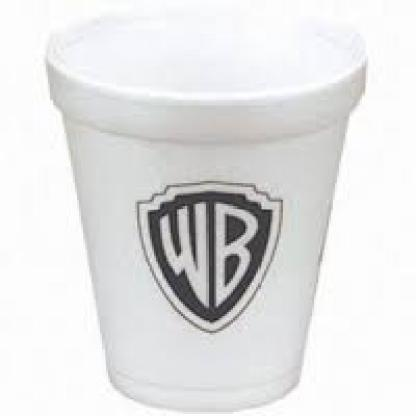paper: (44, 8, 364, 408)
